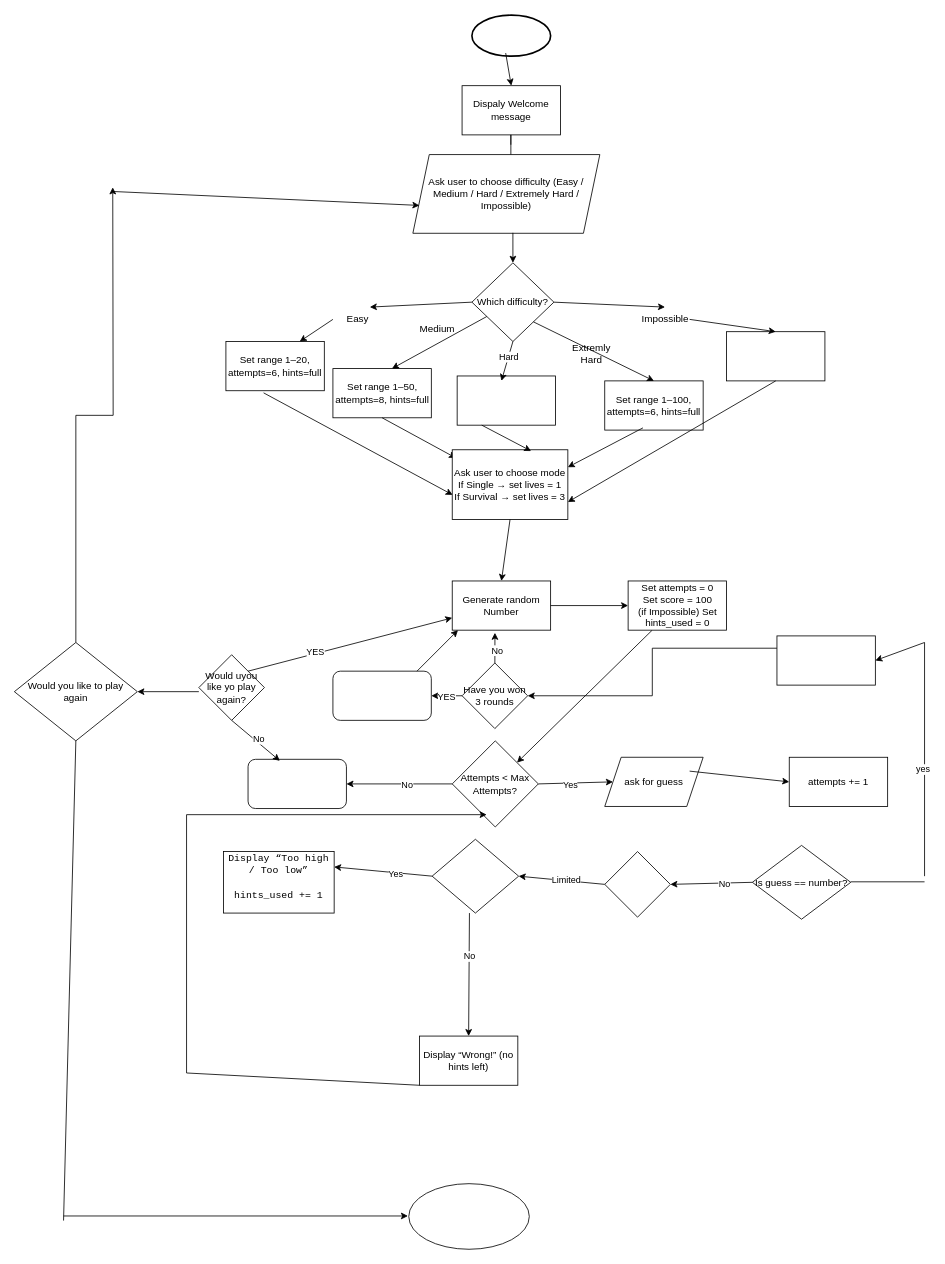
Image size: 945x1264. Some labels were removed from this diagram. Each missing label, with the centre of its shape:
Congratualtions u won display total attempts and difficulty: the point at 825,660
Difficulty increased: the point at 381,695
End: the point at 468,1216
Game over: the point at 296,783
Hint Mode?: the point at 637,884
Hints used <2: the point at 475,875
Set range 1–100, attempts=10, hints=full: the point at 506,400
Set range 1–1000, attempts=5, hints=limited (2); hints_used=0: the point at 775,356
Start: the point at 511,35
